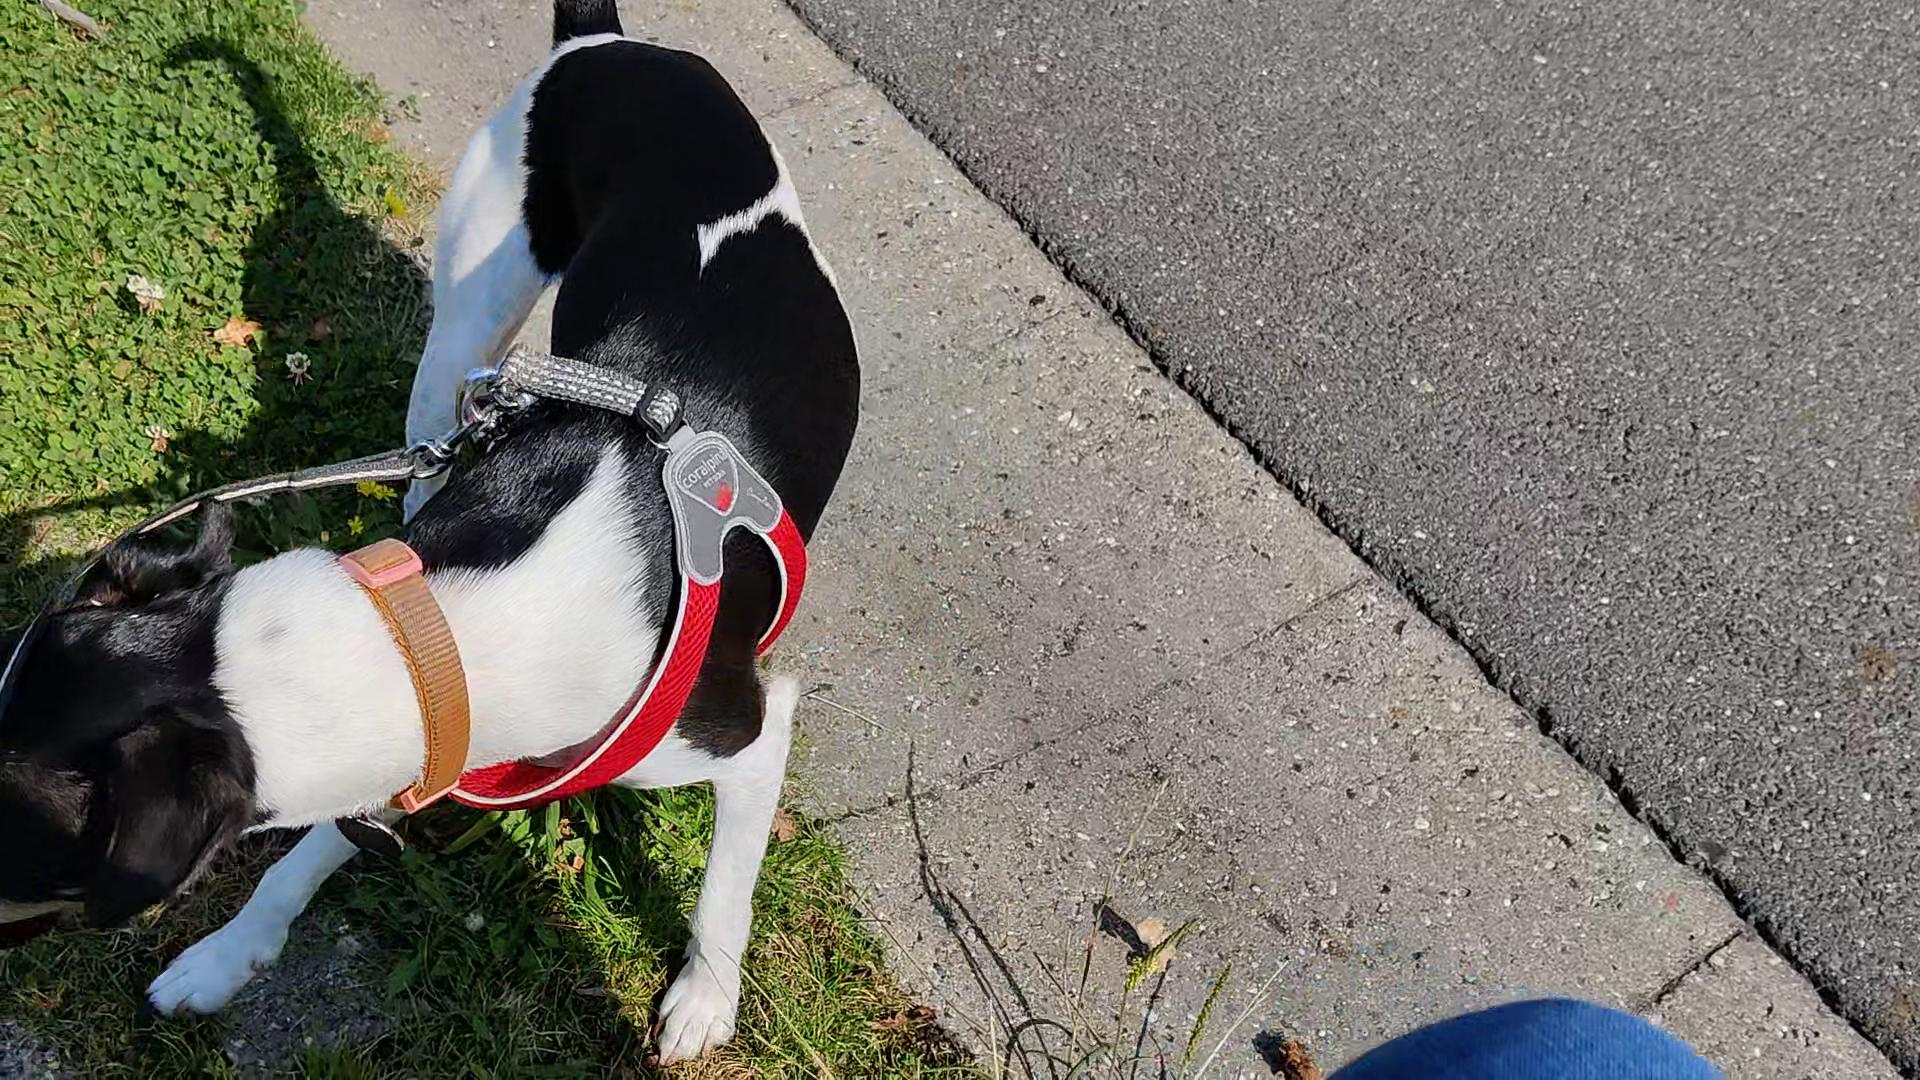Dog: (0, 0, 878, 1069)
